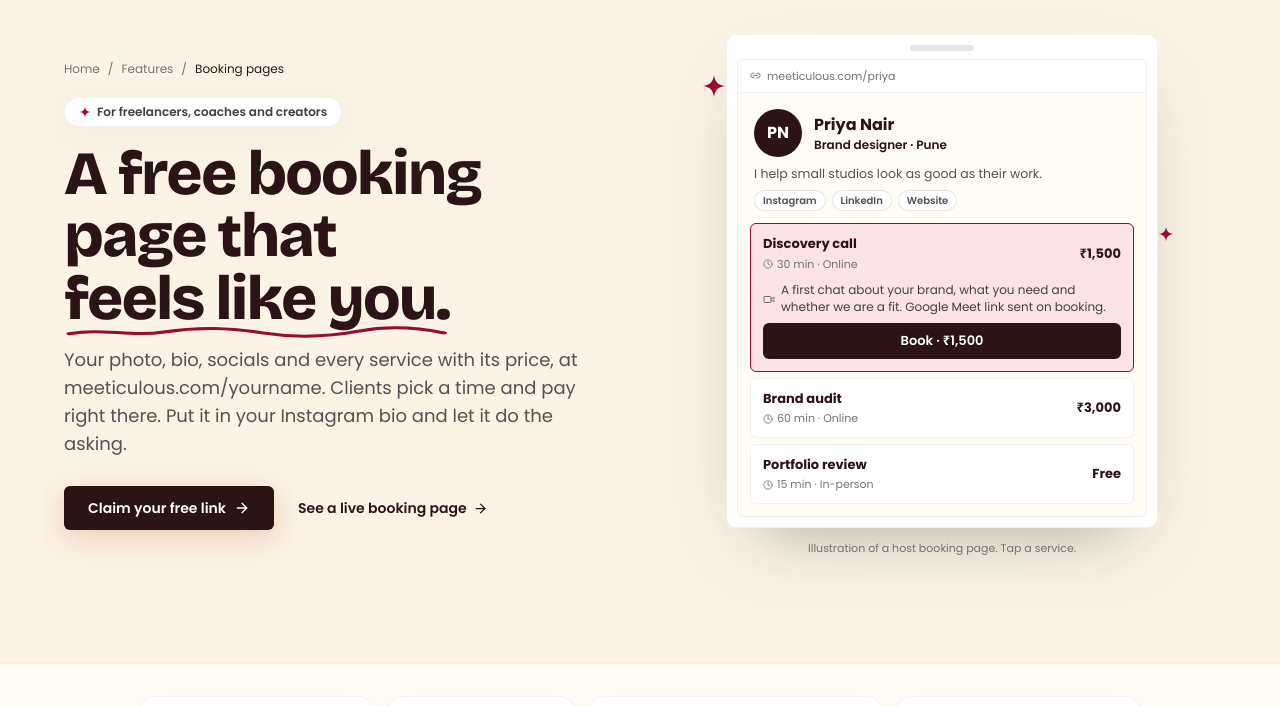
Test case: Booking pages feature page › opens a service in the phone demo when tapped
The image size is (1280, 706).
Step 1. Click the button "Brand audit 60 min · Online ₹3,000" → (802, 398), box [751, 379, 1133, 437]
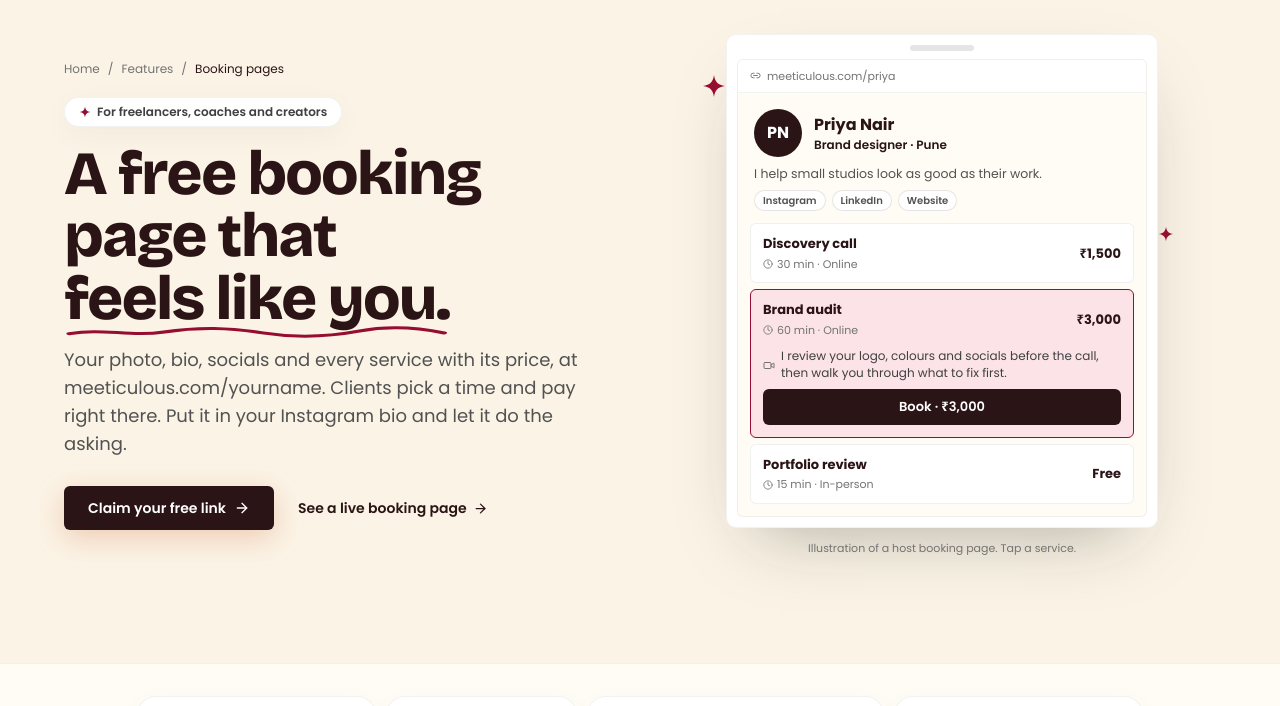
Now the text "walk you through what to fix first" is shown, box [781, 347, 1099, 381]
